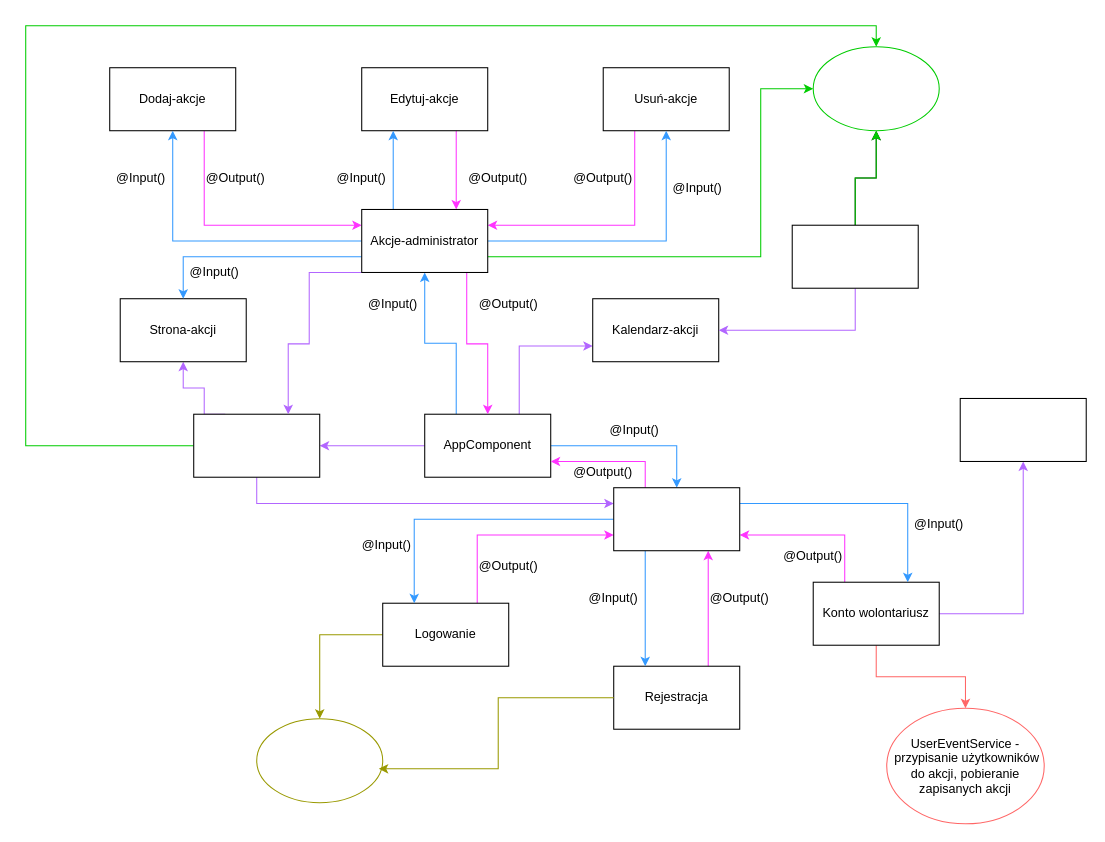
The diagram is 1105 pixels wide and 842 high, and some of its shapes have lost their labels. The box of each missing label's shape, as (x1, y1, x2, y2) in pixels:
Akcje-wolontariusz: (959, 397, 1086, 461)
Blog-akcji: (193, 413, 320, 477)
EventService - zarządzanie akcjami: (812, 46, 939, 131)
Kalendarz: (791, 224, 918, 288)
UserService - zarządzanie danymi użytkowników: (256, 718, 383, 803)
Użytkownik: (613, 487, 740, 551)
